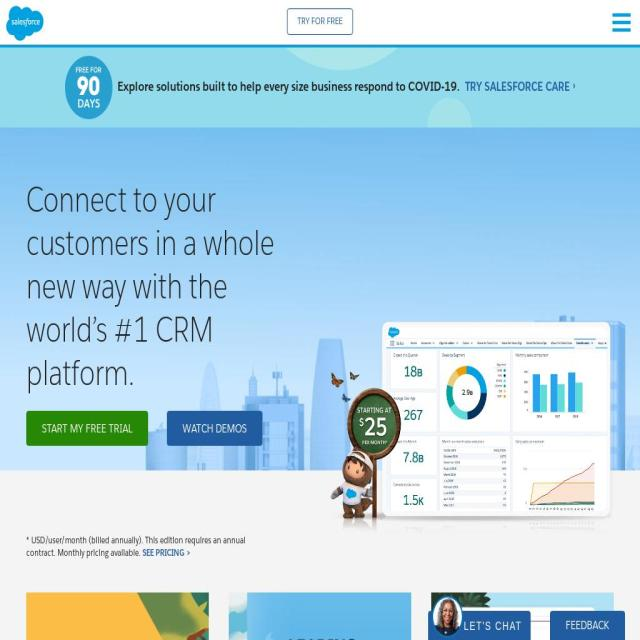button: (26, 411, 148, 446), (167, 411, 262, 446), (428, 611, 531, 640), (550, 611, 625, 640), (0, 0, 44, 47), (287, 8, 353, 35), (606, 0, 640, 45)
heading: (27, 177, 274, 395)
image: (0, 127, 640, 535), (330, 319, 614, 535), (0, 48, 640, 128), (26, 592, 209, 640), (228, 592, 411, 640), (431, 592, 614, 640), (64, 56, 112, 119), (6, 6, 44, 41), (432, 611, 461, 640), (612, 13, 630, 17), (612, 28, 630, 32), (612, 21, 630, 24)
text: (26, 534, 246, 560), (117, 77, 408, 95), (464, 78, 576, 94), (42, 421, 132, 436), (182, 421, 247, 436), (408, 77, 460, 95), (464, 619, 522, 633), (142, 547, 190, 560), (298, 15, 342, 27)
